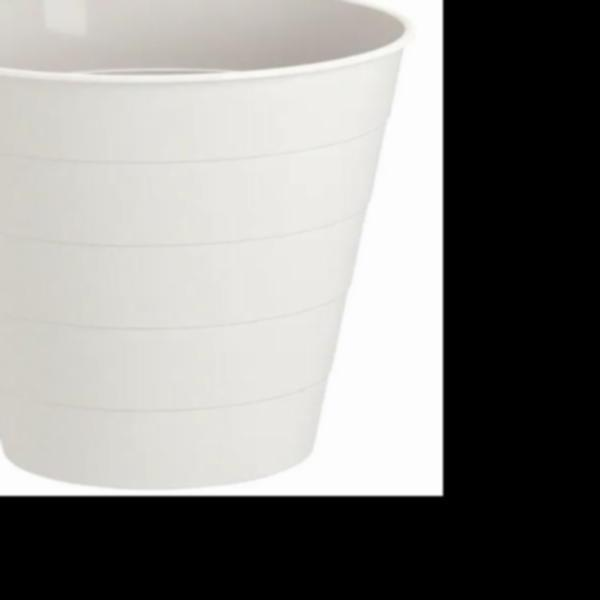Bote de Basura: (0, 0, 391, 481)
